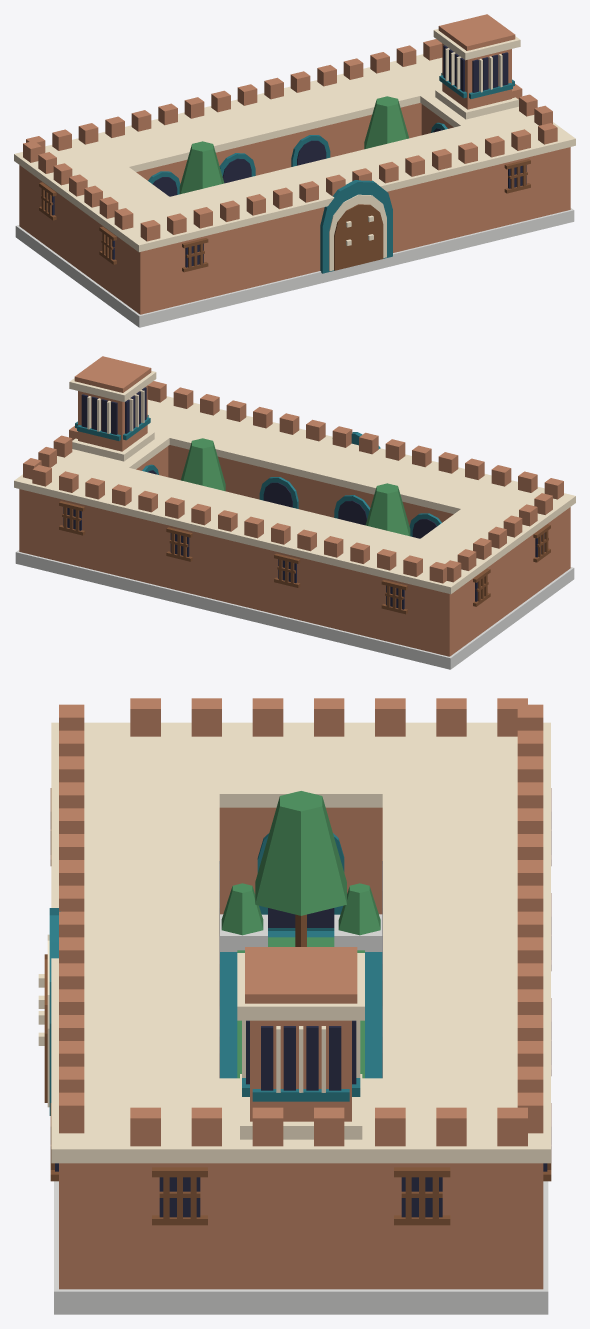
Rendered from house-2x1-1f-riad-a.glb.
The picture shows the model from 3 angles, top to bottom: view 1: azimuth 30°, elevation 25°; view 2: azimuth 150°, elevation 25°; view 3: azimuth 270°, elevation 25°; orthographic projection. The views are drawn at different scales.
Parts seen in each view (by area): view 1: house-2x1-1f-riad-a; view 2: house-2x1-1f-riad-a; view 3: house-2x1-1f-riad-a.
Boxes of the visible parts, x1,y1,x2,y2 form: house-2x1-1f-riad-a: (14, 14, 575, 327); house-2x1-1f-riad-a: (14, 356, 575, 669); house-2x1-1f-riad-a: (38, 698, 551, 1314).
Size of the model in its own units: 1.98 by 0.67 by 1.01.
Materials: 1 (1 with a texture image).
